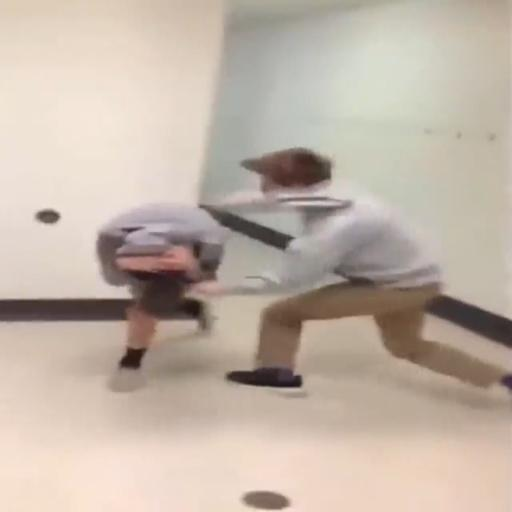violencia: (50, 136, 512, 402)
